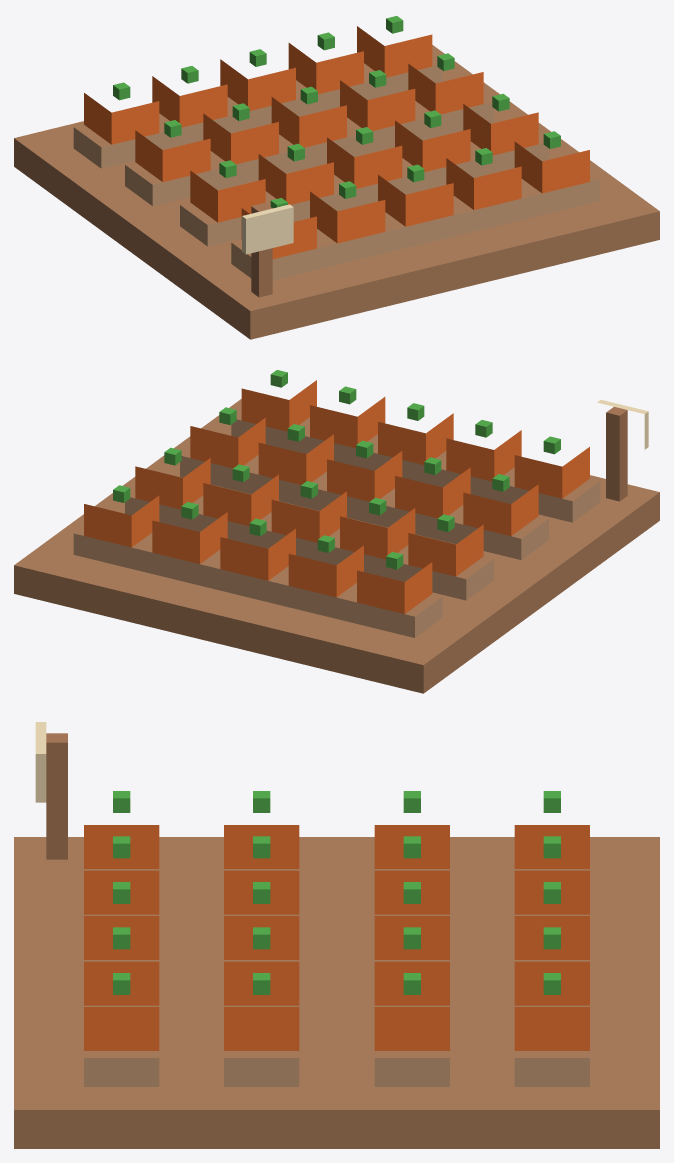
Rendered from field_t1_v3.glb.
3 renders of one model, top to bottom at view 1: azimuth 30°, elevation 25°; view 2: azimuth 150°, elevation 25°; view 3: azimuth 270°, elevation 25°, orthographic. The views are drawn at different scales.
Parts seen in each view (by area): view 1: field_t1_v3; view 2: field_t1_v3; view 3: field_t1_v3.
Boxes of the visible parts, <box> form: field_t1_v3: <box>14,16,659,339</box>; field_t1_v3: <box>14,370,659,693</box>; field_t1_v3: <box>14,722,659,1148</box>.
Size of the model in its own units: 0.6 by 0.16 by 0.6.
1 material, 1 textured.
